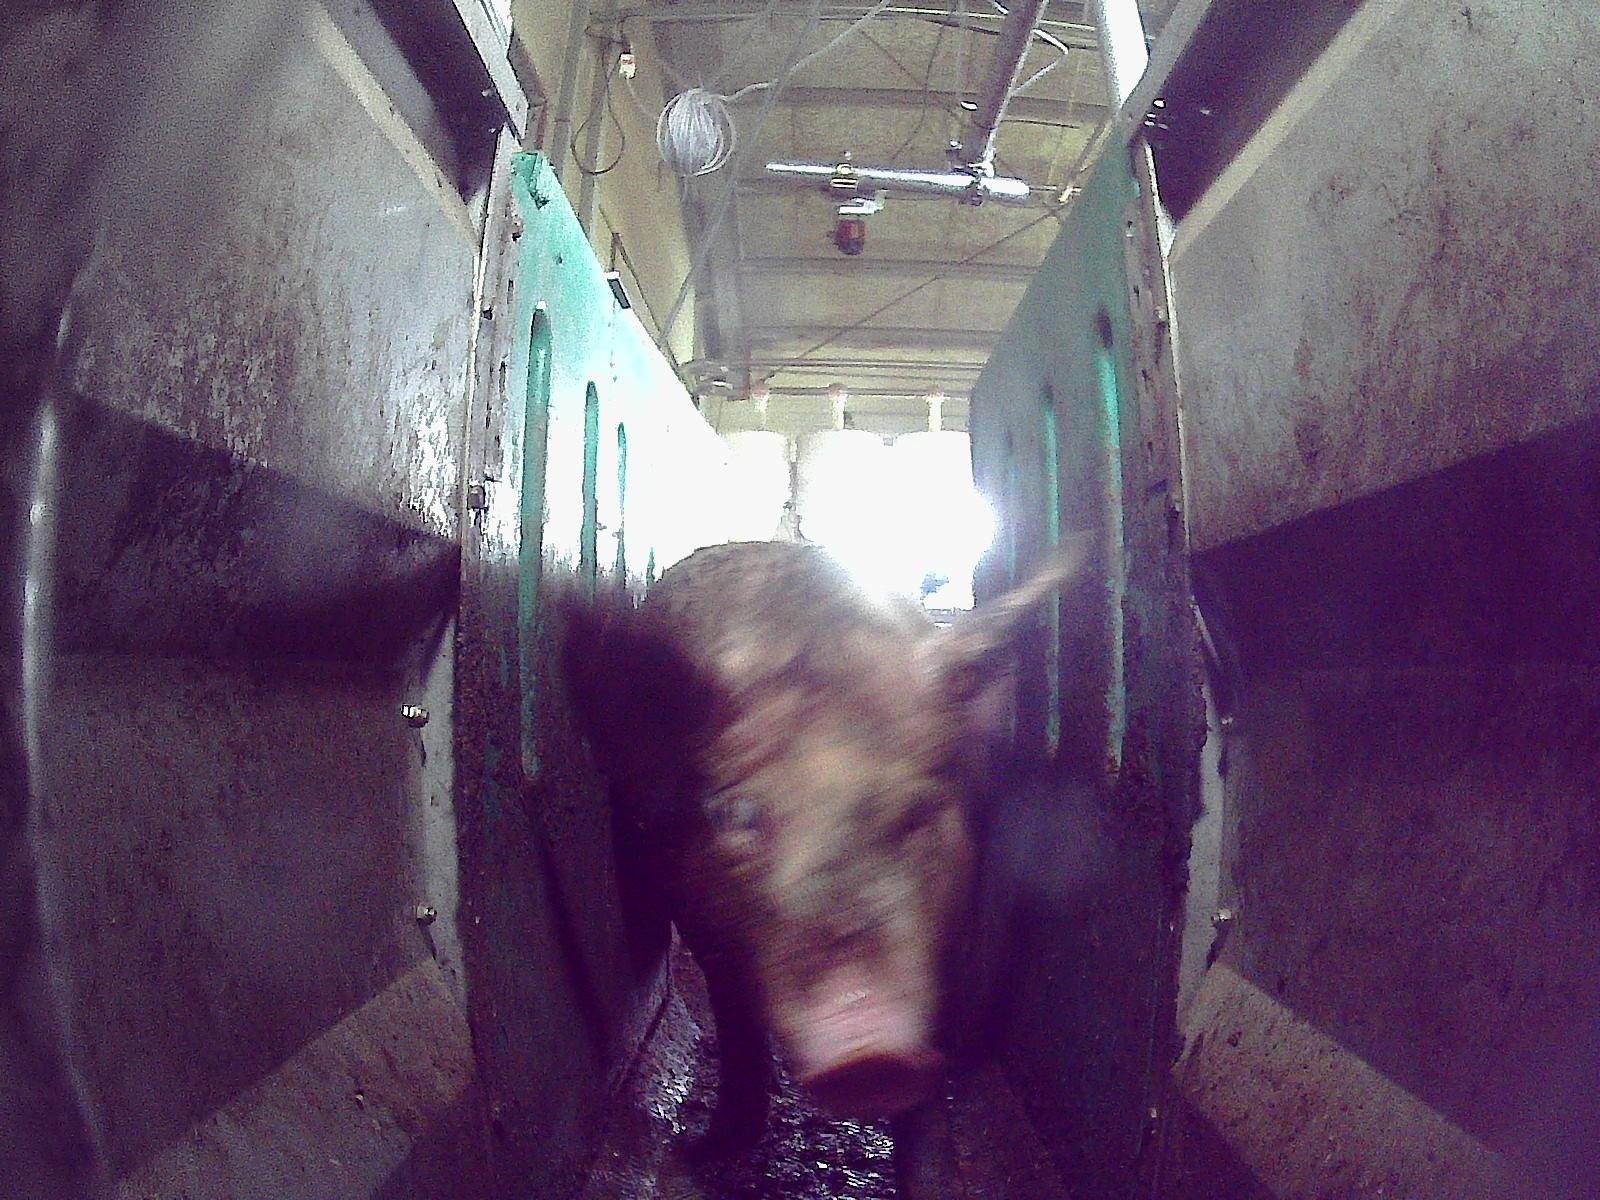Face: (670, 680, 969, 1113)
